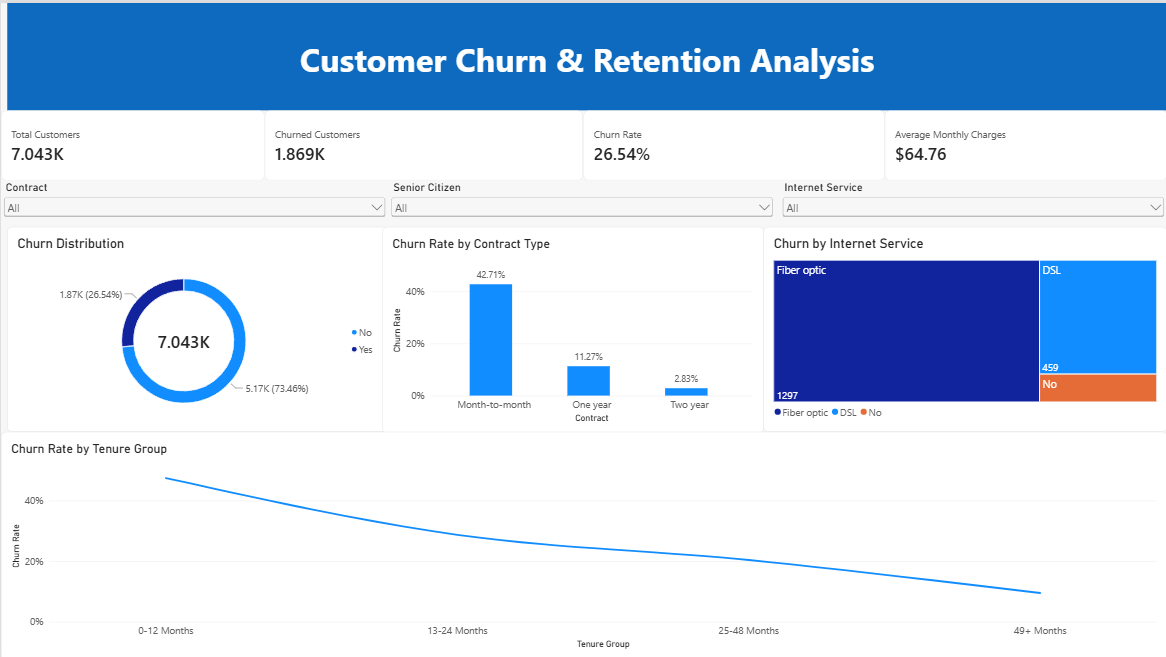

Layout of this report page (visuals, bound fields, positions):
{"tool":"powerbi","page":{"name":"Churn Overview","canvas":[1920,1080],"ordinal":0},"visuals":[{"type":"textbox","box":[10.3,0,1910.1,177],"z":0},{"type":"cardVisual","fields":{"Data":["Telco_Churn.Total Customers"]},"box":[0,177,434.3,115.3],"z":1000},{"type":"cardVisual","fields":{"Data":["Telco_Churn.Churned Customers"]},"box":[434.3,177,524.9,115.3],"z":2000},{"type":"cardVisual","fields":{"Data":["Telco_Churn.Churn Rate"]},"box":[959.2,177,496.1,115.3],"z":3000},{"type":"cardVisual","fields":{"Data":["Telco_Churn.Average Monthly Charges"]},"box":[1455.2,177,465.2,115.3],"z":4000},{"type":"donutChart","title":"Churn Distribution","fields":{"Category":["Telco_Churn.Churn Label"],"Y":["Count(Telco_Churn.CustomerID)"]},"box":[10.3,368.4,627.8,337.6],"z":4001},{"type":"treemap","title":"Churn by Internet Service","fields":{"Group":["Telco_Churn.Internet Service"],"Values":["Telco_Churn.Churned Customers"]},"box":[1255.6,368.4,664.8,337.6],"z":4002},{"type":"clusteredColumnChart","title":"Churn Rate by Contract Type","fields":{"Category":["Telco_Churn.Contract"],"Y":["Telco_Churn.Churn Rate"]},"box":[627.8,368.4,627.8,339.6],"z":4003},{"type":"lineChart","fields":{"Category":["Telco_Churn.Tenure Group"],"Y":["Telco_Churn.Churn Rate"]},"box":[0,706,1920.4,374.6],"z":4004},{"type":"slicer","fields":{"Values":["Telco_Churn.Contract"]},"box":[0,292.3,638.1,76.2],"z":4005},{"type":"slicer","fields":{"Values":["Telco_Churn.Senior Citizen"]},"box":[638.1,292.3,638.1,76.2],"z":4006},{"type":"slicer","fields":{"Values":["Telco_Churn.Internet Service"]},"box":[1282.3,292.3,638.1,76.2],"z":4007}]}

Visuals, with their boxes in screenshot pixels (x1, y1, x2, y2), scaled from the page's 1920x1080 canvas onto the 1166x657 screenshot:
textbox: BBox(6, 0, 1165, 108)
cardVisual - Telco_Churn.Total Customers: BBox(0, 108, 264, 178)
cardVisual - Telco_Churn.Churned Customers: BBox(264, 108, 583, 178)
cardVisual - Telco_Churn.Churn Rate: BBox(583, 108, 884, 178)
cardVisual - Telco_Churn.Average Monthly Charges: BBox(884, 108, 1165, 178)
"Churn Distribution" donutChart: BBox(6, 224, 388, 429)
"Churn by Internet Service" treemap: BBox(763, 224, 1165, 429)
"Churn Rate by Contract Type" clusteredColumnChart: BBox(381, 224, 763, 431)
lineChart - Telco_Churn.Tenure Group x Telco_Churn.Churn Rate: BBox(0, 429, 1165, 656)
slicer - Telco_Churn.Contract: BBox(0, 178, 388, 224)
slicer - Telco_Churn.Senior Citizen: BBox(388, 178, 775, 224)
slicer - Telco_Churn.Internet Service: BBox(779, 178, 1165, 224)
